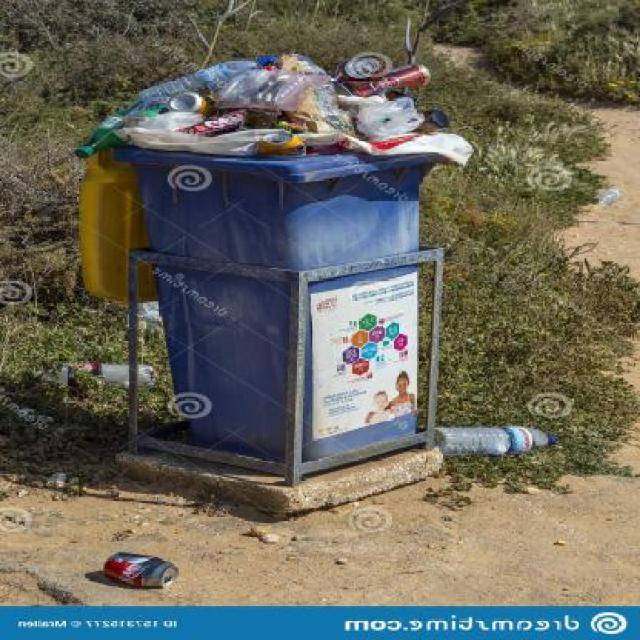garbage container: (132, 133, 473, 482)
